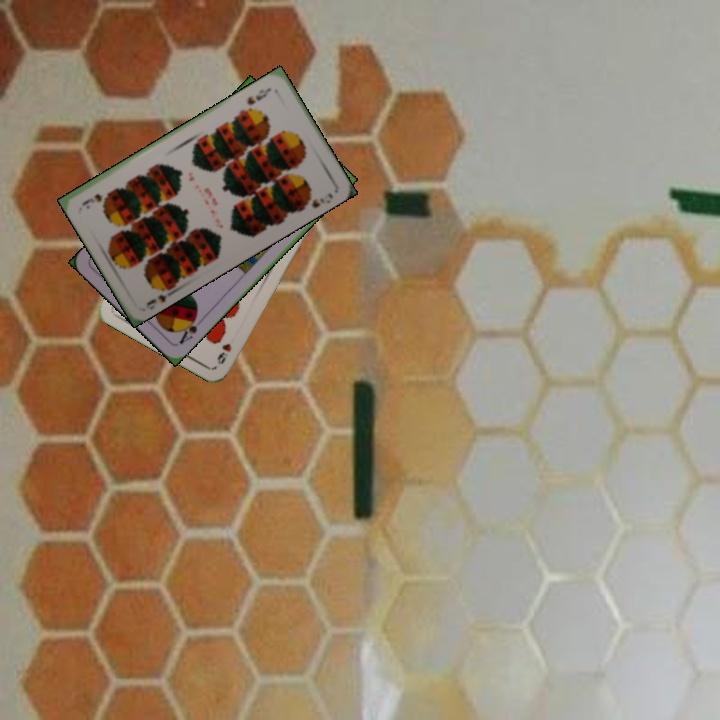H9: (213, 339, 234, 367)
S9: (142, 281, 177, 308), (243, 83, 274, 108)
SA: (175, 310, 206, 347)
